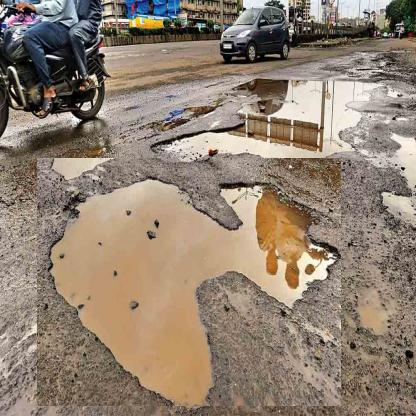pothole_water_m: (37, 158, 342, 407), (162, 76, 364, 202)
